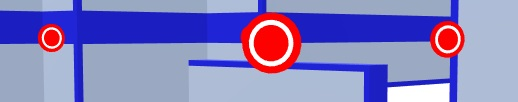Target: (235, 11, 304, 78), (425, 19, 465, 61), (32, 20, 66, 55)
